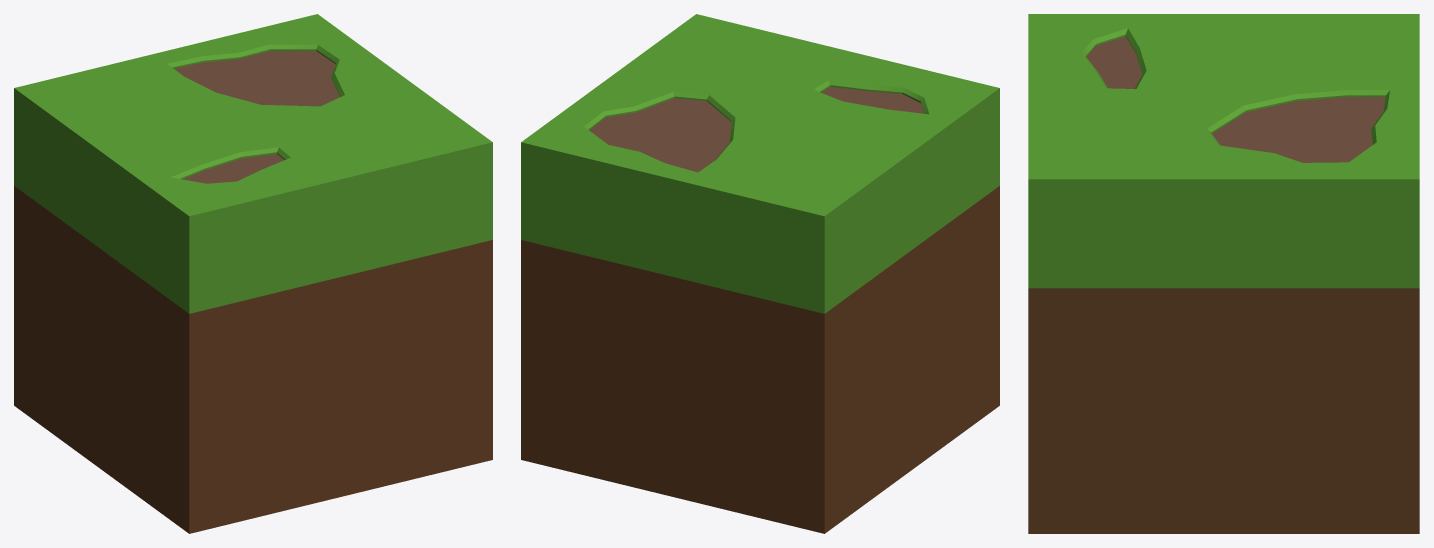
The model's file is Grass-Ground-Island 1.fbx.
3 renders of one model, left to right at view 1: azimuth 30°, elevation 25°; view 2: azimuth 150°, elevation 25°; view 3: azimuth 270°, elevation 25°, orthographic. The views are drawn at different scales.
Visible parts, largest first — view 1: Grass/Ground 5; view 2: Grass/Ground 5; view 3: Grass/Ground 5.
Boxes of the visible parts, bbox=[...] form: Grass/Ground 5: bbox=[14, 14, 492, 533]; Grass/Ground 5: bbox=[521, 14, 999, 533]; Grass/Ground 5: bbox=[1028, 14, 1419, 533].
Bounding box in the file's own units: 2 × 2 × 2.
